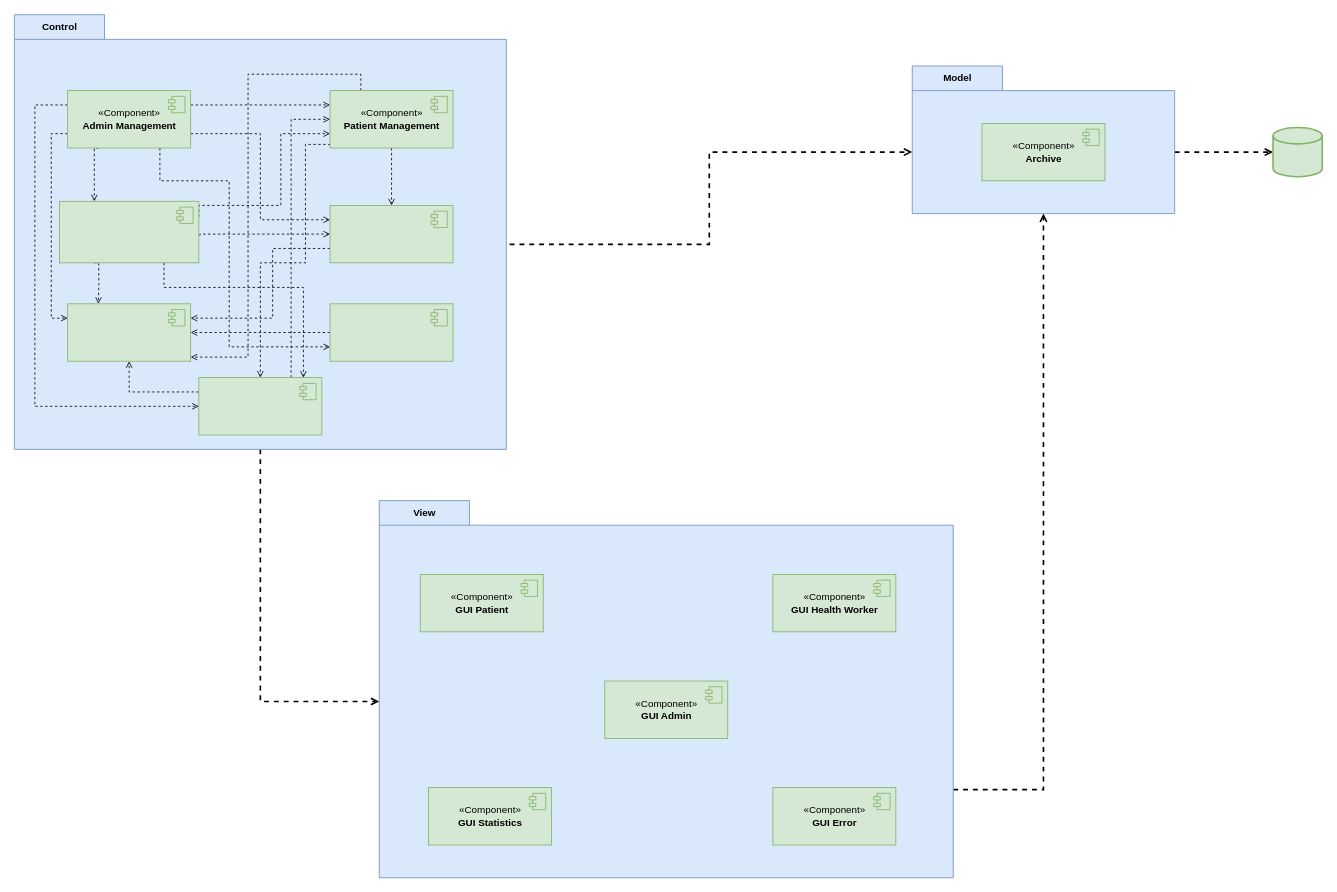
The diagram is 1337 pixels wide and 892 high, and some of its shapes have lost their labels. The shapes that lost their labels are listed below. From the top down, each one's centre as x and y in pixels, then its label:
the point at 129,231: «Component» Health Worker Management
the point at 391,234: «Component» Validation Management
the point at 129,332: «Component» Error Management
the point at 391,332: «Component» Statistics Management
the point at 260,406: «Component» Swab Management (IA)
